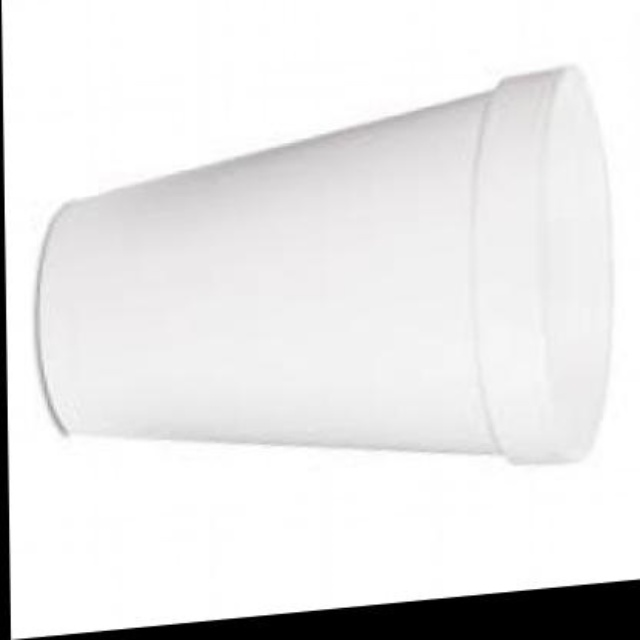trash: (37, 68, 611, 462)
